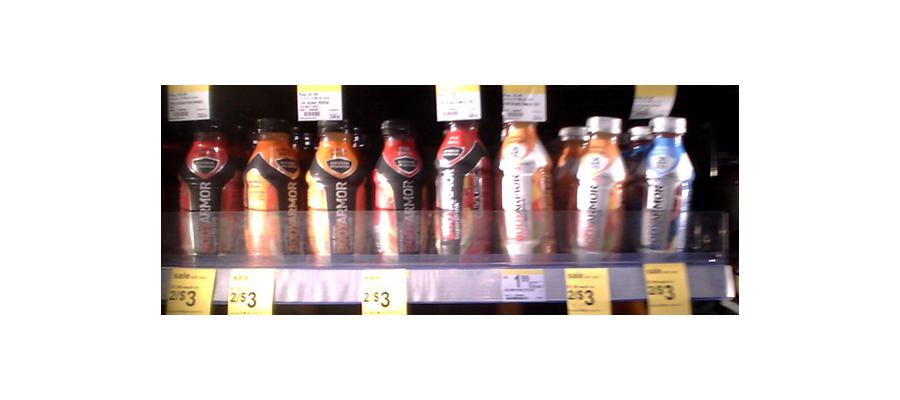bottle: (558, 109, 629, 260), (435, 94, 493, 260), (306, 107, 366, 260), (242, 112, 302, 259), (498, 111, 553, 262), (372, 116, 430, 257), (636, 117, 692, 262), (181, 120, 238, 258)
